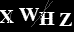H: (38, 11, 56, 26)
W: (17, 7, 40, 22)
X: (1, 9, 14, 24)
Z: (58, 12, 73, 27)
